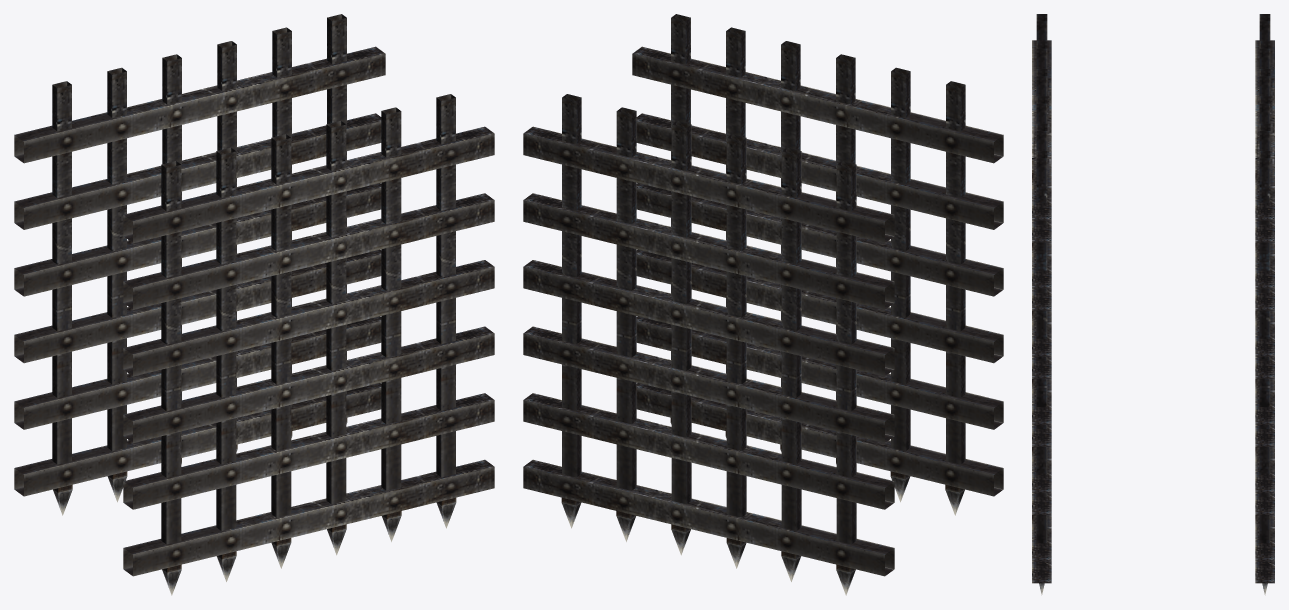
The model's file is SC_tamalagebi_03.FBX.
3 renders of one model, left to right at view 1: azimuth 30°, elevation 25°; view 2: azimuth 150°, elevation 25°; view 3: azimuth 270°, elevation 25°, orthographic. The views are drawn at different scales.
Visible parts, largest first — view 1: SC_tamalagebi_03; view 2: SC_tamalagebi_03; view 3: SC_tamalagebi_03.
Part boxes in pixels (box(x1,y1,x2,y2)): SC_tamalagebi_03: box(14, 14, 494, 595); SC_tamalagebi_03: box(523, 14, 1003, 595); SC_tamalagebi_03: box(1032, 14, 1274, 595).
Size of the model in its own units: 383 by 437 by 218.
